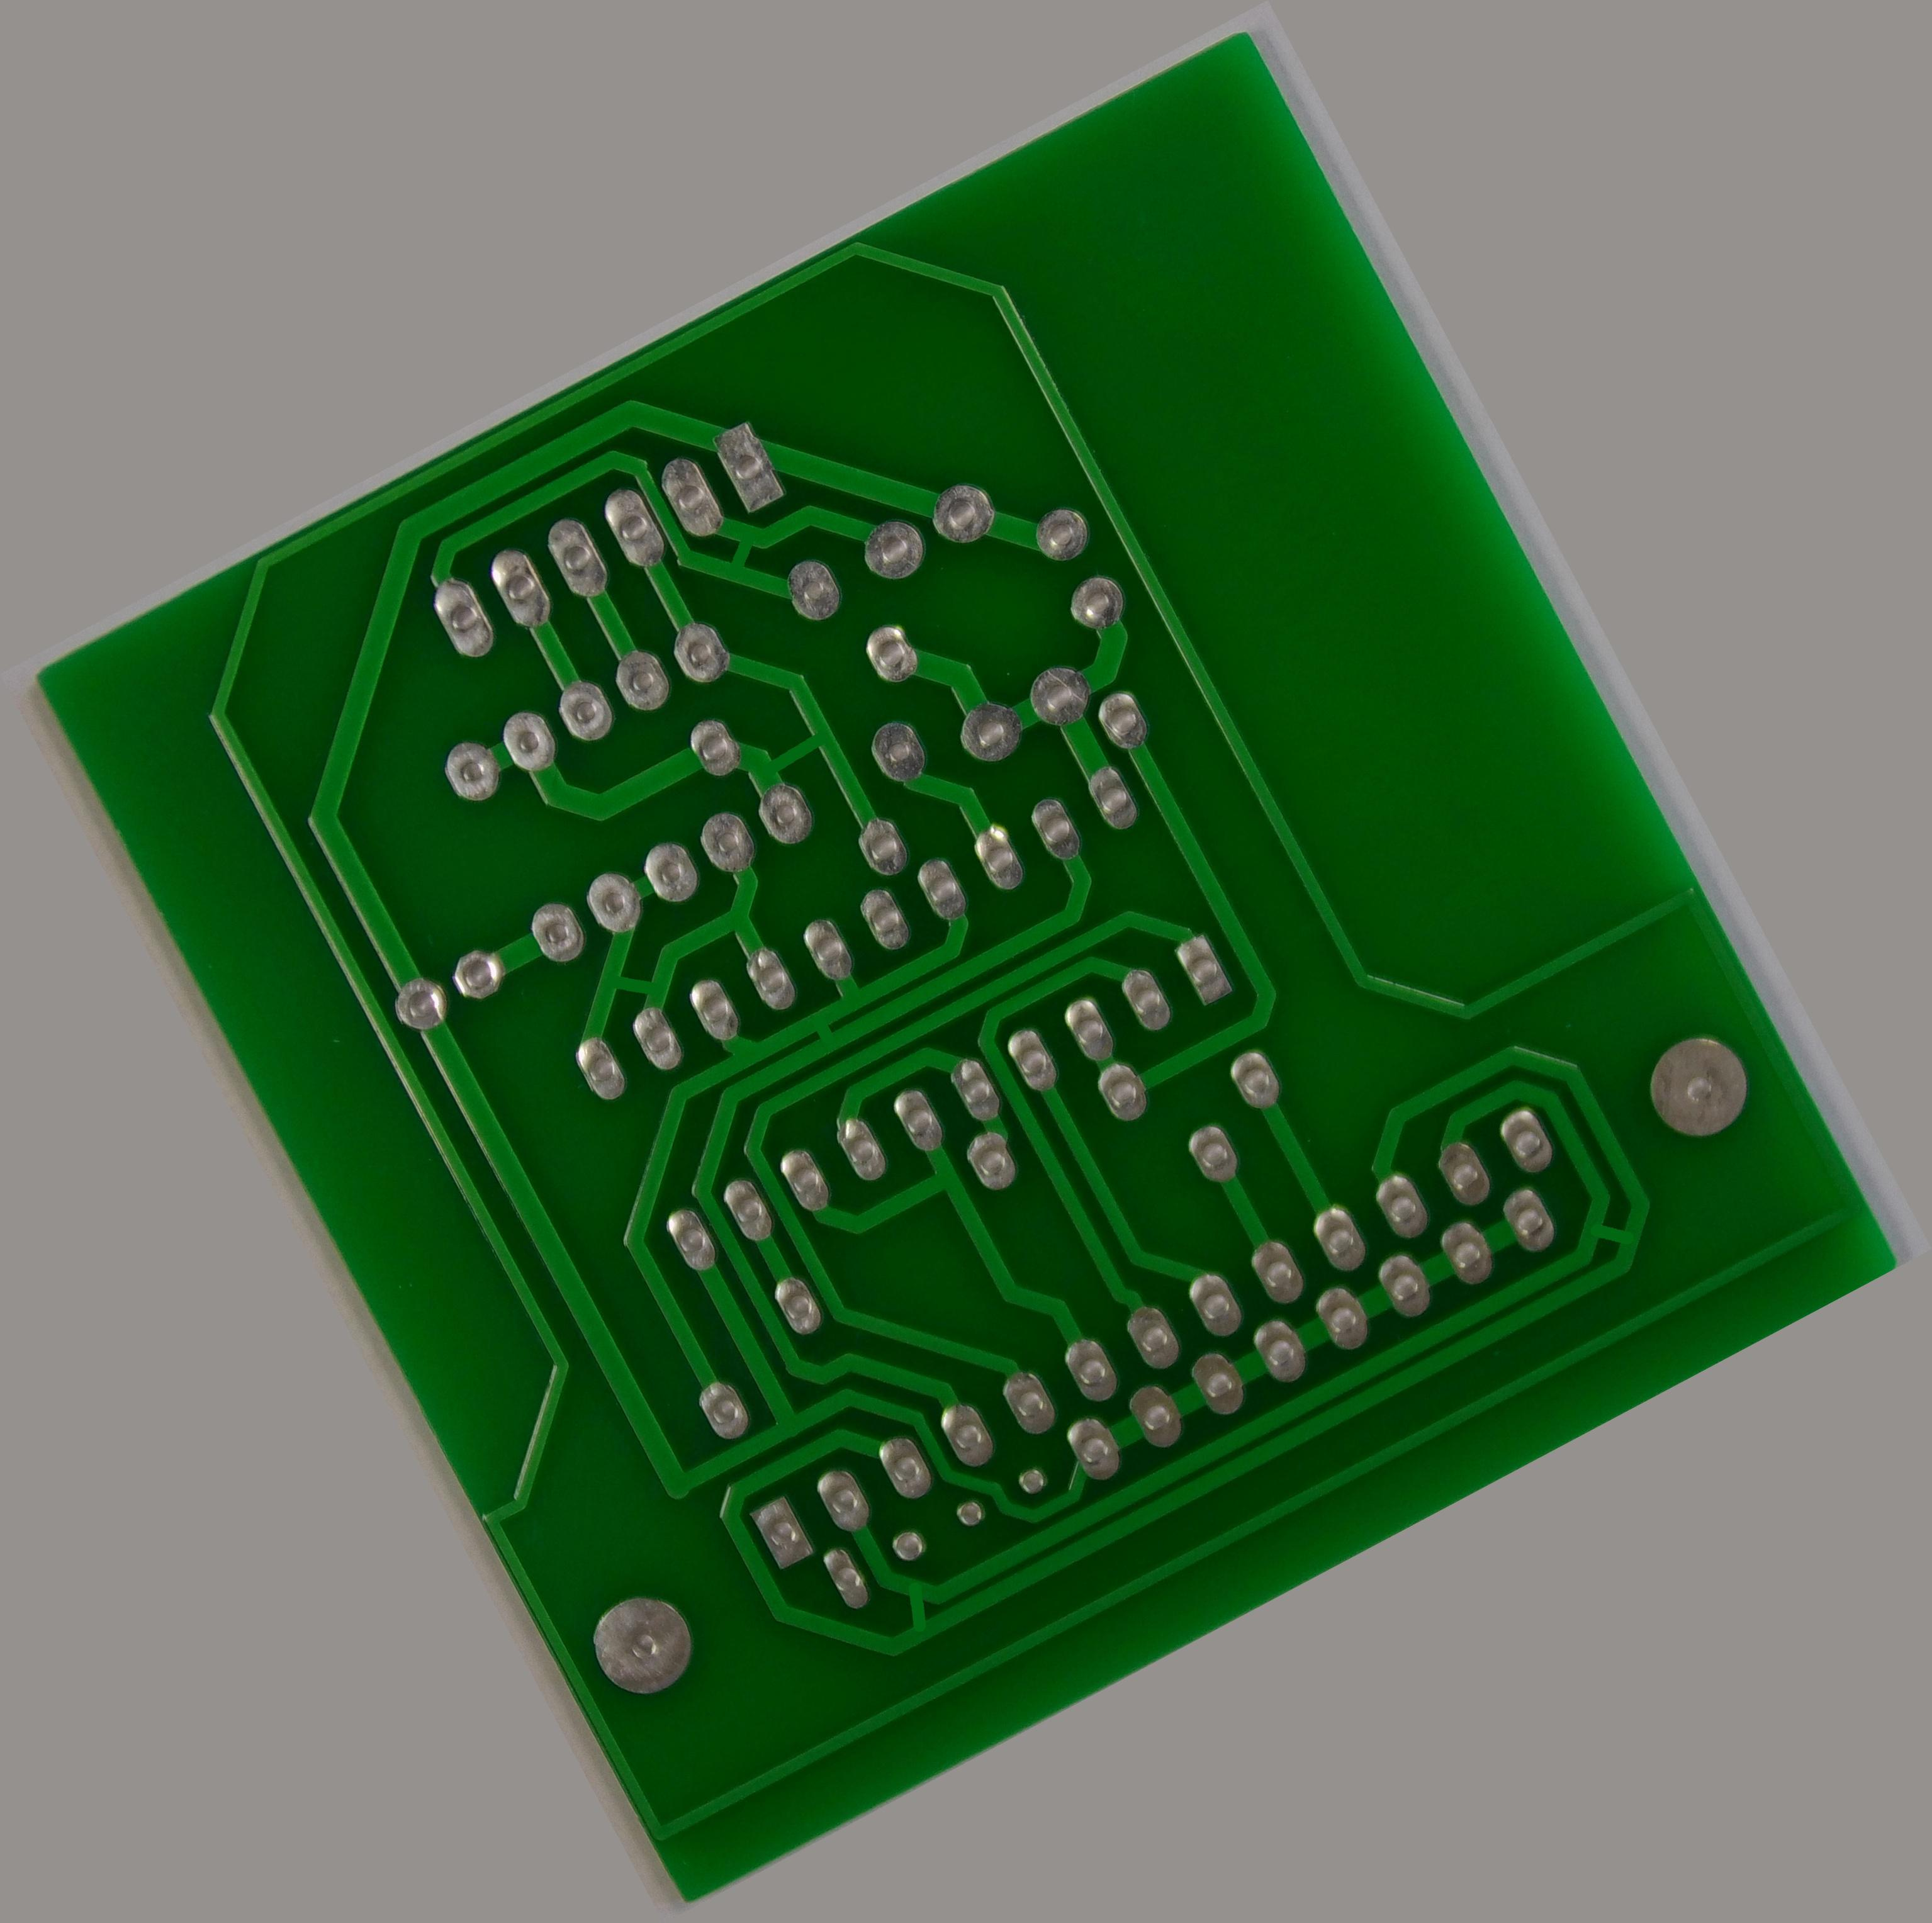short: (736, 706, 858, 803), (1560, 1182, 1670, 1289), (872, 1555, 970, 1654), (585, 947, 675, 1034), (701, 518, 784, 592), (787, 997, 856, 1069)
